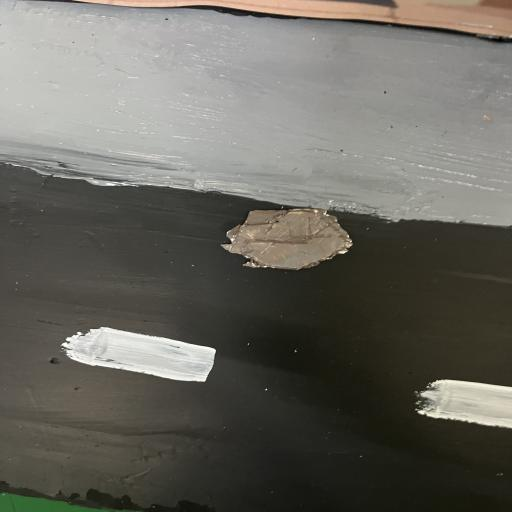porthole: (216, 202, 360, 272)
